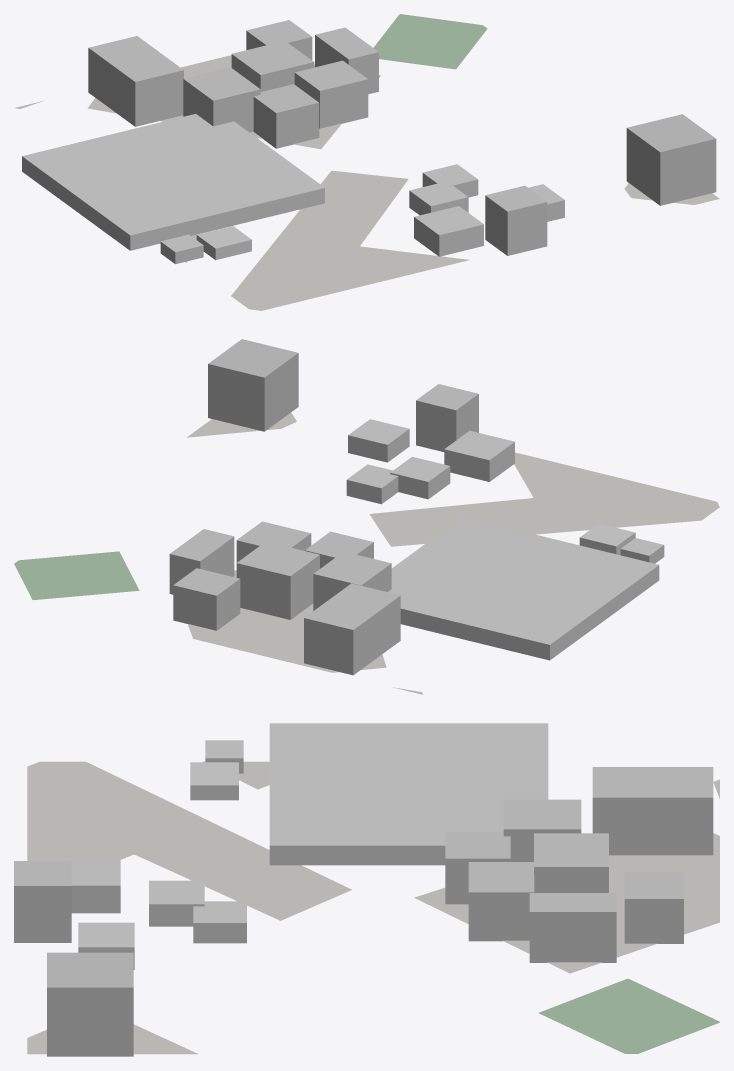
The model's file is 134_107_mid.glb.
3 views of the same model, one above another, from view 1: azimuth 30°, elevation 25°; view 2: azimuth 150°, elevation 25°; view 3: azimuth 270°, elevation 25° (orthographic). The views are drawn at different scales.
Bounding box in the file's own units: 536 × 55.29 × 510.
